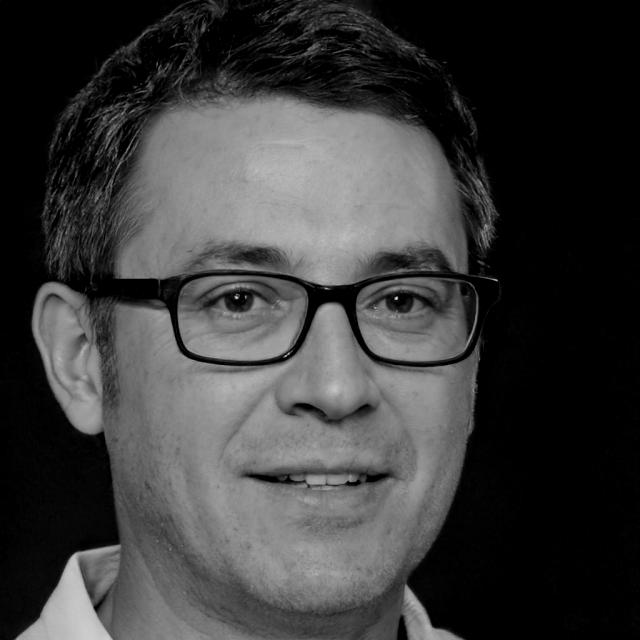lens: (178, 276, 309, 361), (356, 278, 479, 362)
